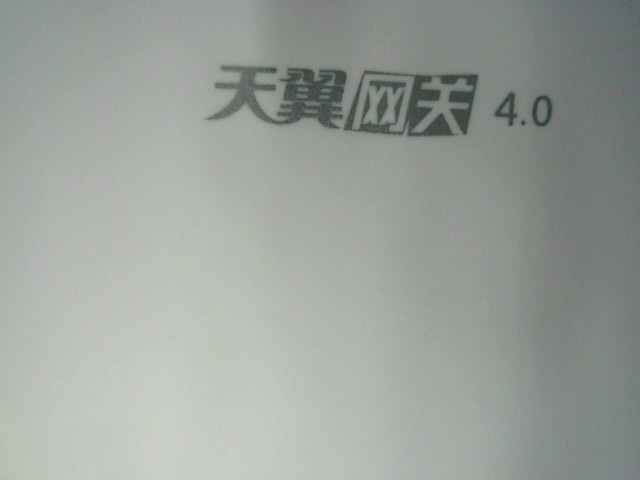BM_TianYiWangGuan: (208, 58, 557, 137)
